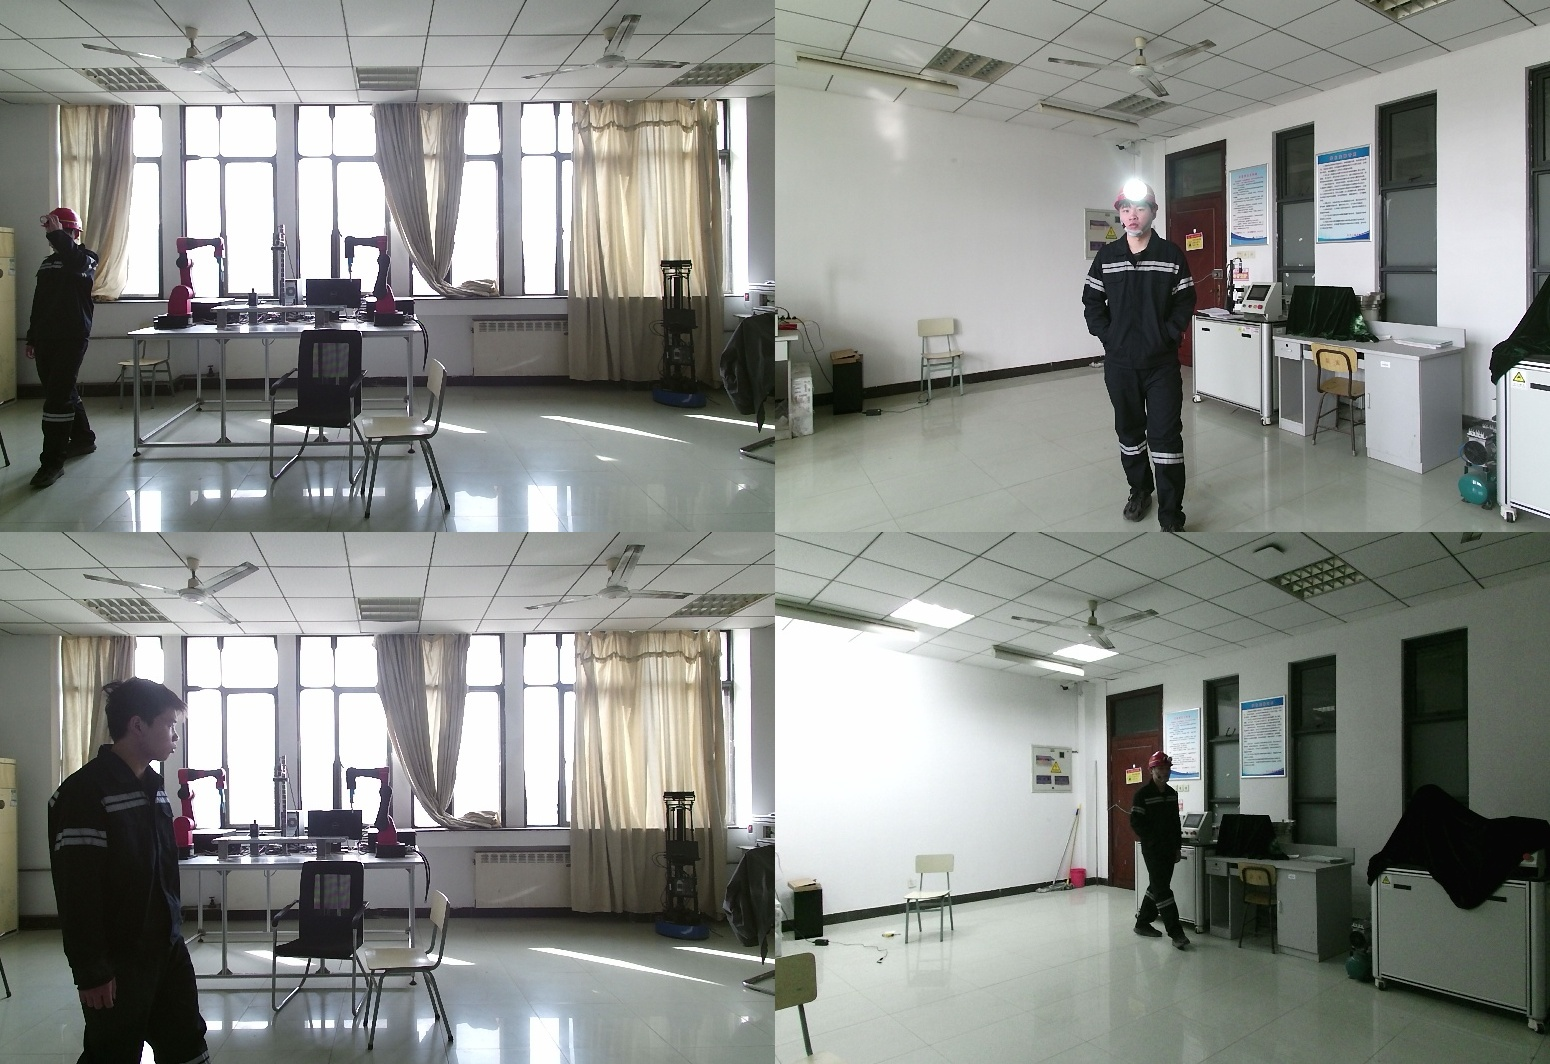person: (51, 679, 218, 1064), (1079, 182, 1209, 532), (25, 210, 101, 489), (1121, 751, 1189, 948)
